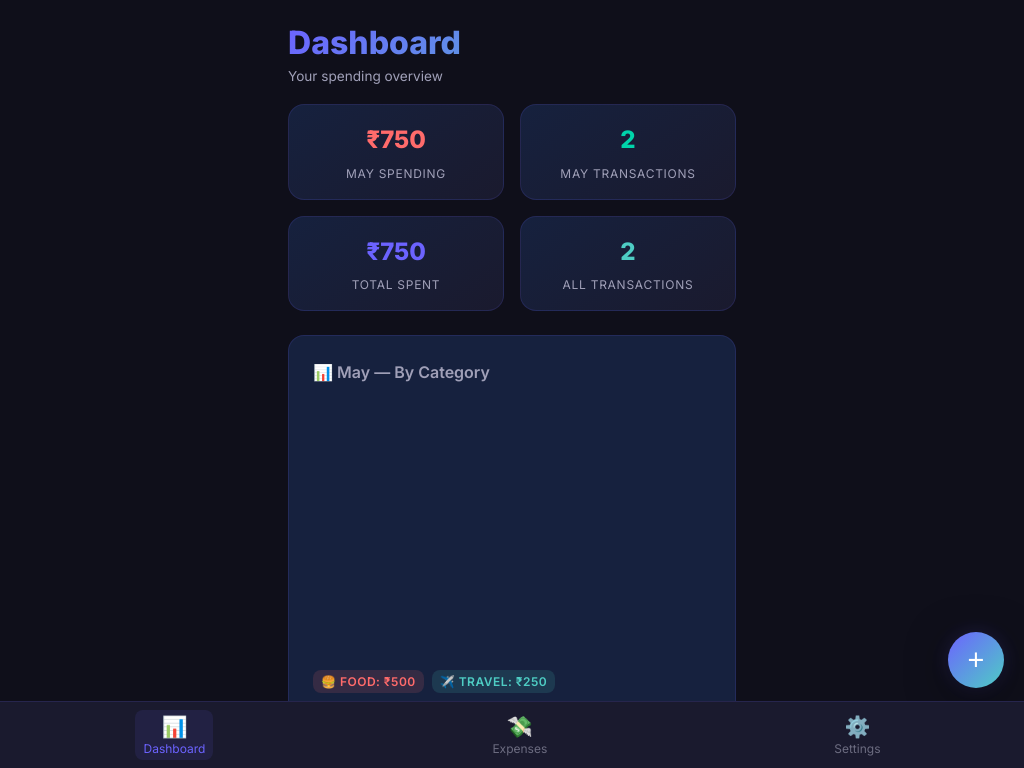
Test case: Edit/Delete Expense — Integration › opens edit modal when clicking an expense
Check: the text "Dashboard" is shown, box left=144, top=741, right=205, bottom=756
Click the text "Expenses" at (520, 748), box left=492, top=741, right=547, bottom=756
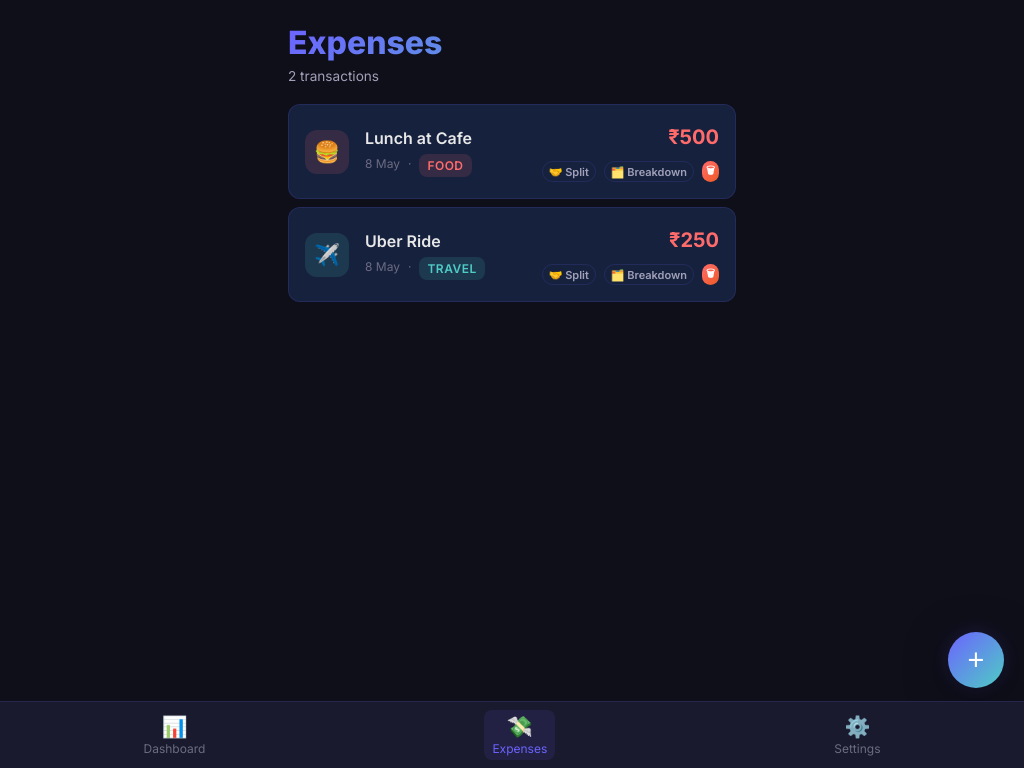
Check: the text "Lunch at Cafe" is shown
// Click on the expense item
Click the text "Lunch at Cafe" at (418, 138), box left=365, top=128, right=472, bottom=148
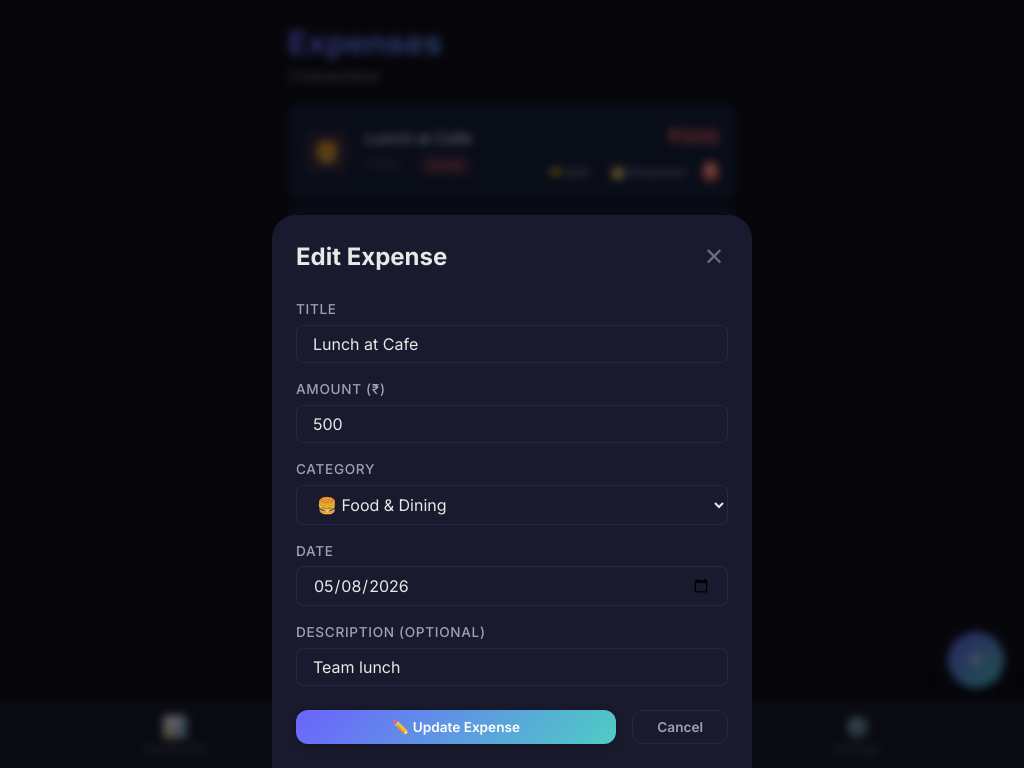
Check: the heading "Edit Expense" is shown, box left=296, top=243, right=447, bottom=272
Check: the field showing "Lunch at Cafe" is shown, box left=296, top=325, right=728, bottom=363
Check: the number field showing "500" is shown, box left=296, top=405, right=728, bottom=443
